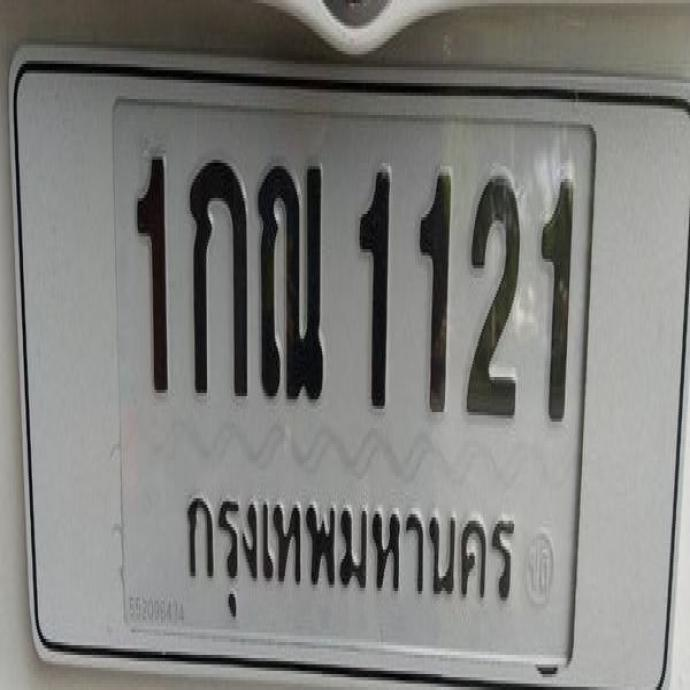1: (536, 175, 571, 421), (415, 169, 449, 410), (356, 167, 389, 408), (133, 152, 166, 393)
2: (463, 171, 519, 416)
A01: (186, 155, 246, 396)
A19: (256, 158, 321, 402)
BKK: (173, 472, 527, 636)
